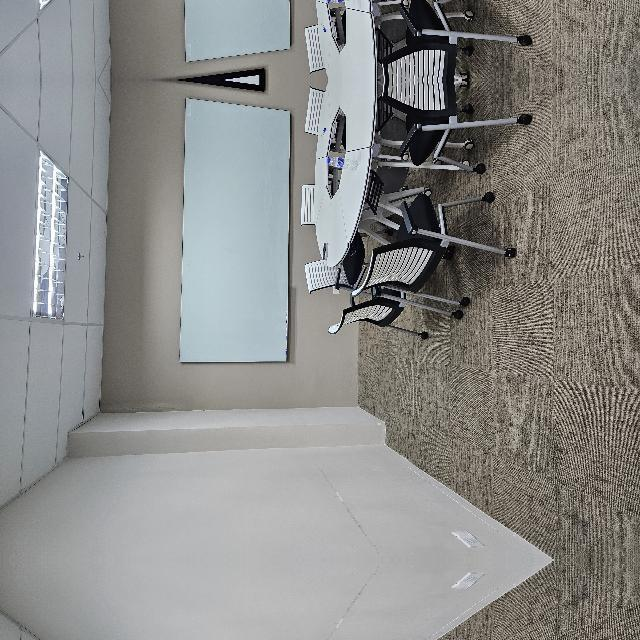obstacle: (216, 372, 479, 612), (216, 508, 479, 640)
